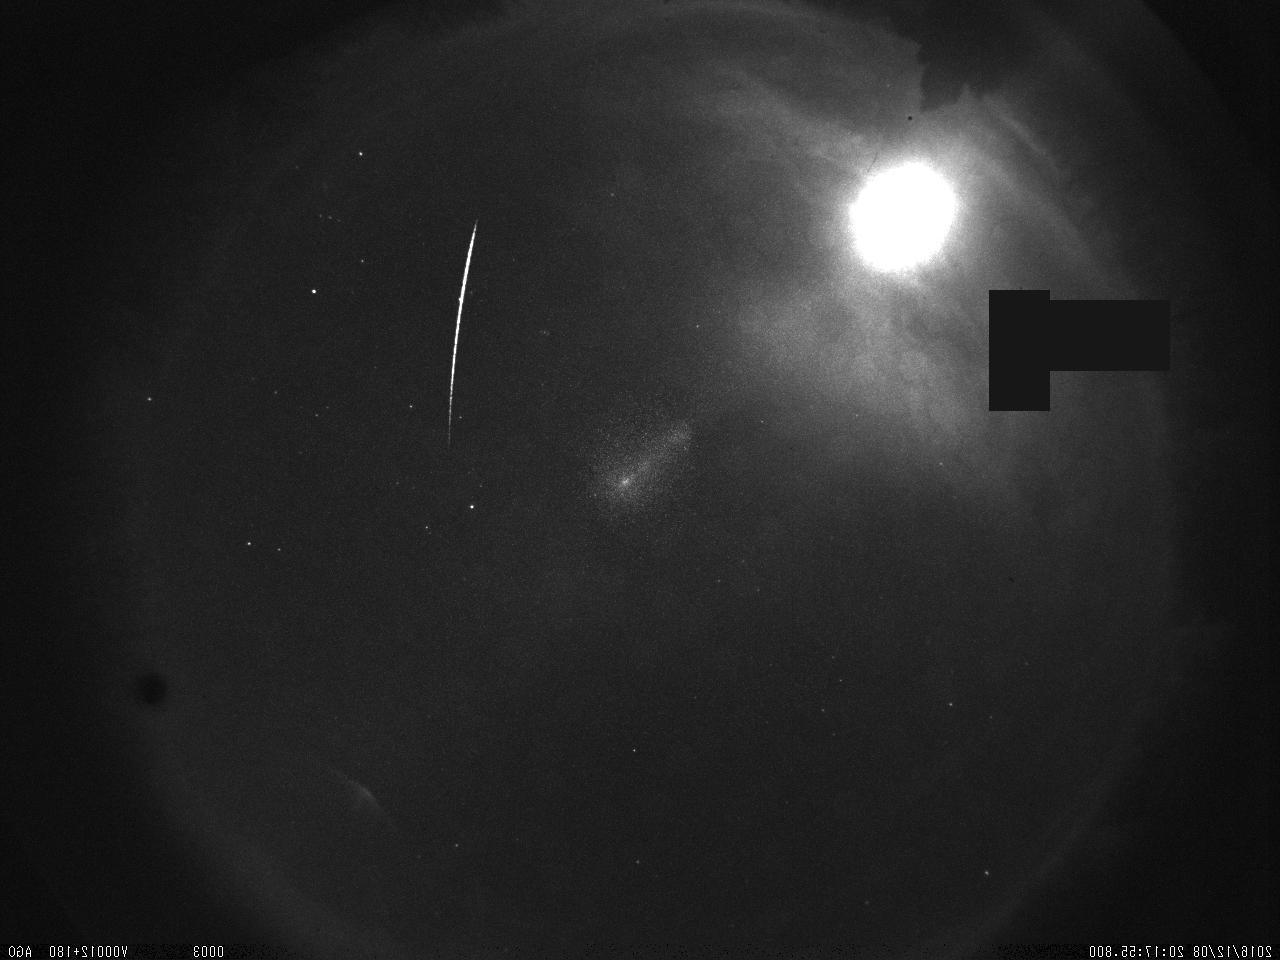meteor: (415, 207, 512, 464)
